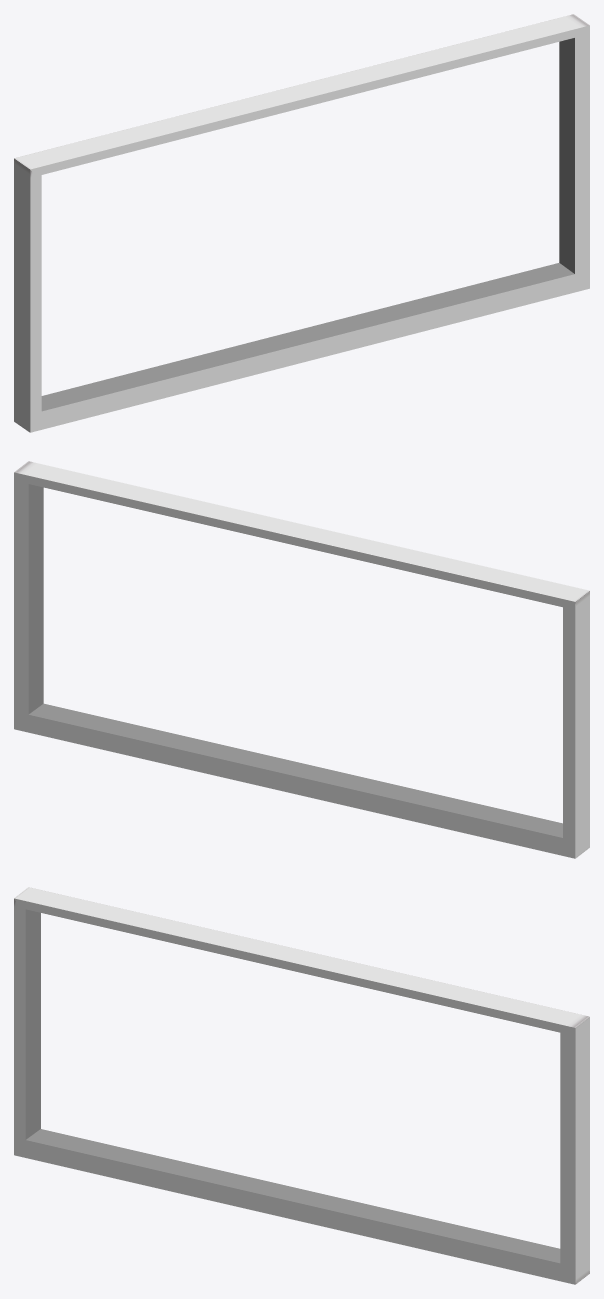
File: CornerBox.obj
3 renders of one model, top to bottom at view 1: azimuth 30°, elevation 25°; view 2: azimuth 150°, elevation 25°; view 3: azimuth 330°, elevation 25°, orthographic. The views are drawn at different scales.
Visible parts, largest first — view 1: Cube; view 2: Cube; view 3: Cube.
Boxes of the visible parts, x1,y1,x2,y2 form: Cube: (14, 14, 589, 432); Cube: (14, 461, 589, 858); Cube: (14, 887, 589, 1284).
Bounding box in the file's own units: 4.4 × 1.95 × 0.3132.
2 materials, 1 textured.
